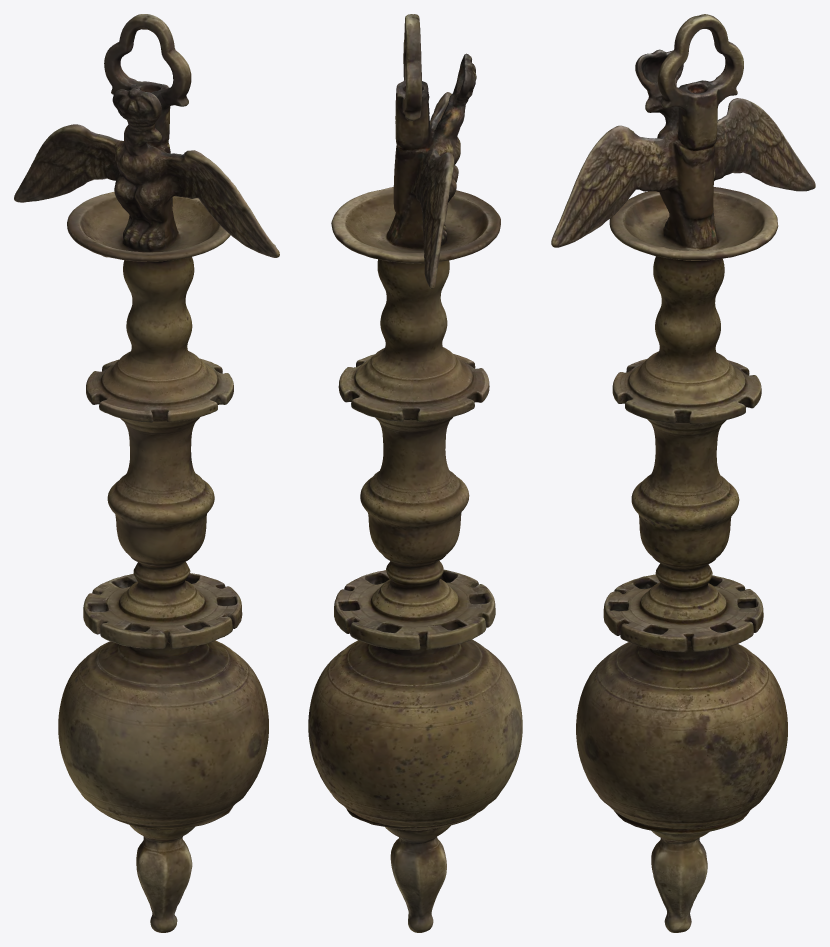
The model's file is preview.glb.
The picture shows the model from 3 angles, left to right: view 1: azimuth 30°, elevation 25°; view 2: azimuth 150°, elevation 25°; view 3: azimuth 270°, elevation 25°; orthographic projection.
Visible parts, largest first — view 1: Object_2; view 2: Object_2; view 3: Object_2.
Part boxes in pixels (x1,y1,x2,y2): Object_2: (14, 14, 279, 932); Object_2: (308, 14, 522, 932); Object_2: (551, 14, 815, 932).
Bounding box in the file's own units: 0.821 × 3.9 × 1.02.
1 material, 1 textured.
